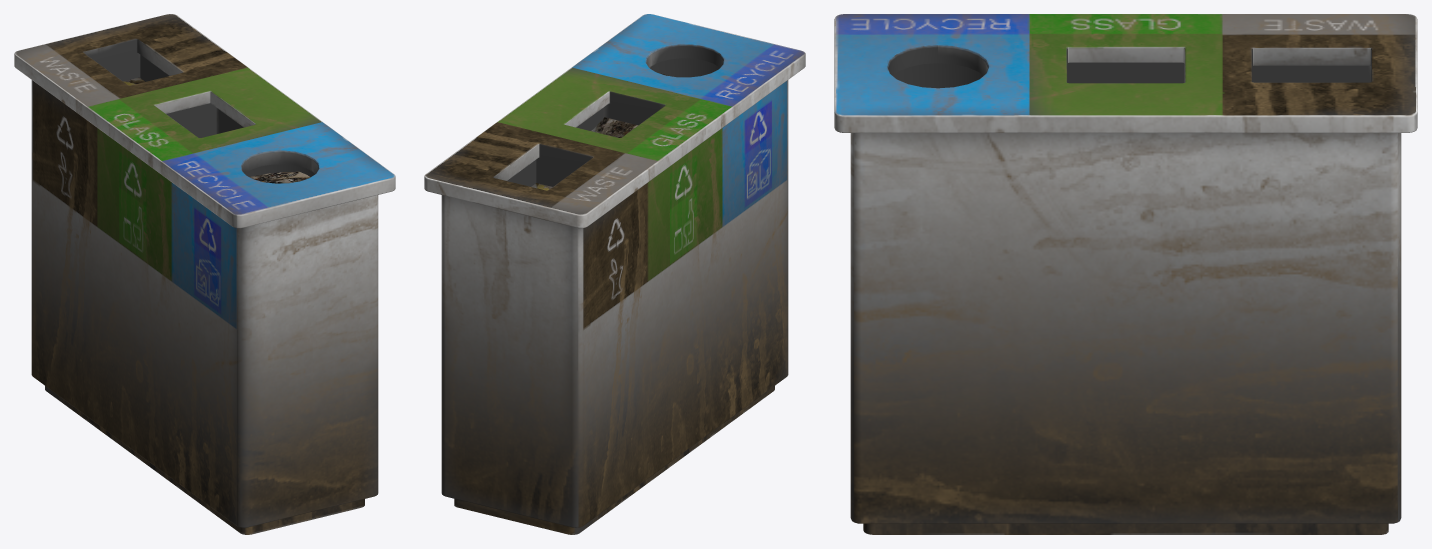
Rendered from SM_Trash_Can_02.fbx.
3 views of the same model, side by side, from view 1: azimuth 30°, elevation 25°; view 2: azimuth 150°, elevation 25°; view 3: azimuth 270°, elevation 25° (orthographic). The views are drawn at different scales.
Parts seen in each view (by area): view 1: SM_Trash_Can_02_LOD0; view 2: SM_Trash_Can_02_LOD0; view 3: SM_Trash_Can_02_LOD0.
Boxes of the visible parts, x1,y1,x2,y2 form: SM_Trash_Can_02_LOD0: [14, 14, 395, 534]; SM_Trash_Can_02_LOD0: [424, 14, 805, 534]; SM_Trash_Can_02_LOD0: [834, 14, 1417, 534].
Bounding box in the file's own units: 44.23 × 106 × 86.42.
